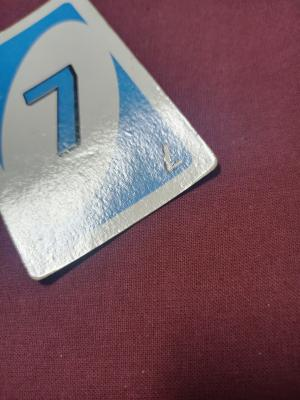blue: (3, 41, 133, 139)
